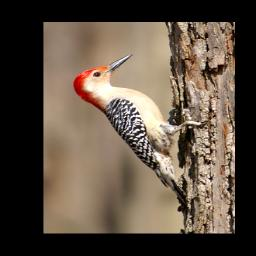Woodpecker: (69, 53, 210, 206)
